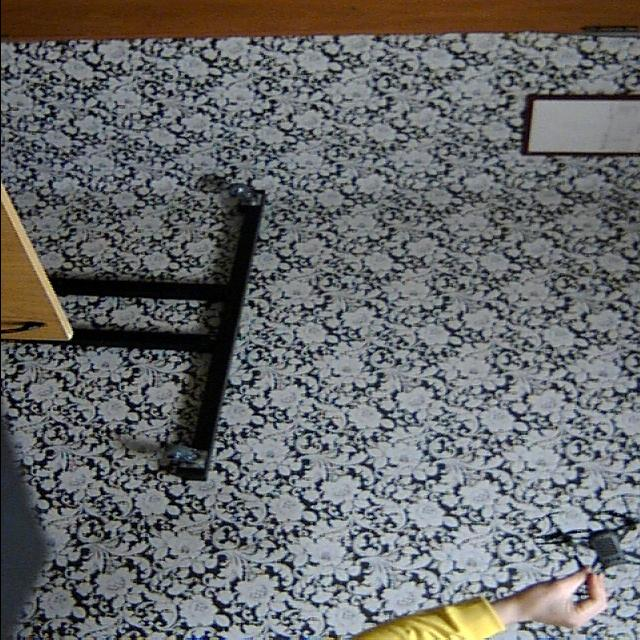drone: (526, 484, 640, 616)
